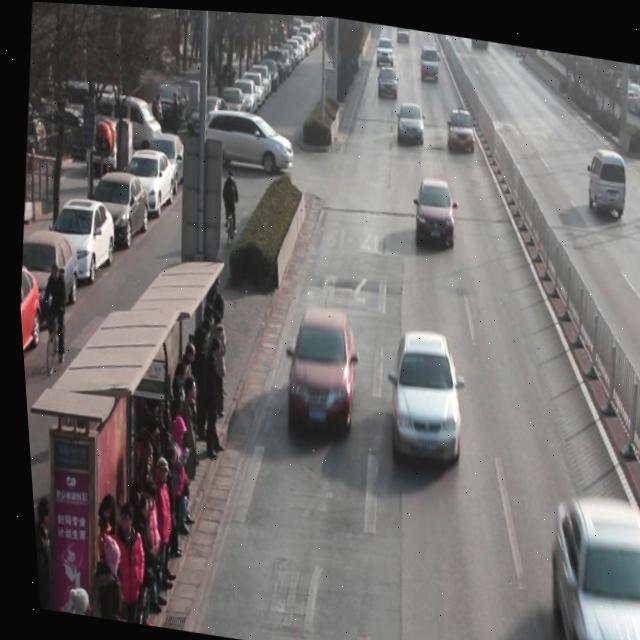car: (528, 484, 640, 640), (377, 323, 468, 466), (274, 302, 359, 439), (408, 172, 458, 248), (442, 102, 477, 152), (393, 97, 426, 144), (374, 60, 400, 98)
truck: (583, 140, 629, 213)
